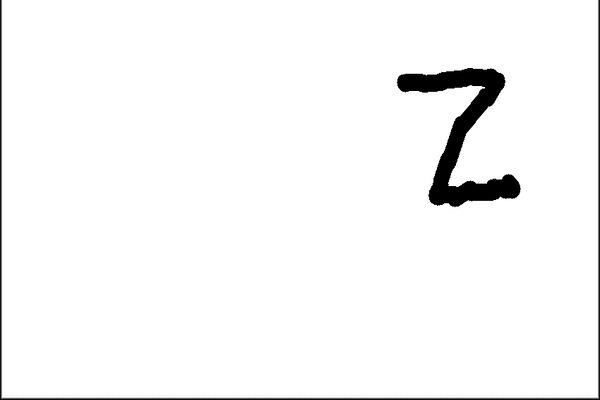Z: (386, 62, 532, 211)
